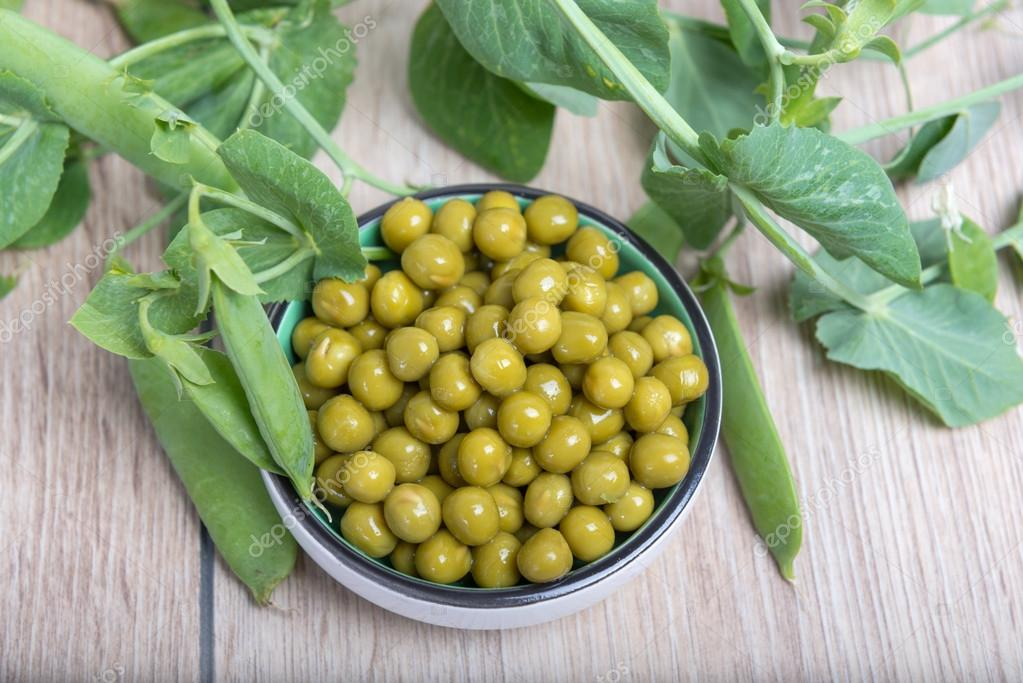boiled peas: (393, 243, 622, 538)
